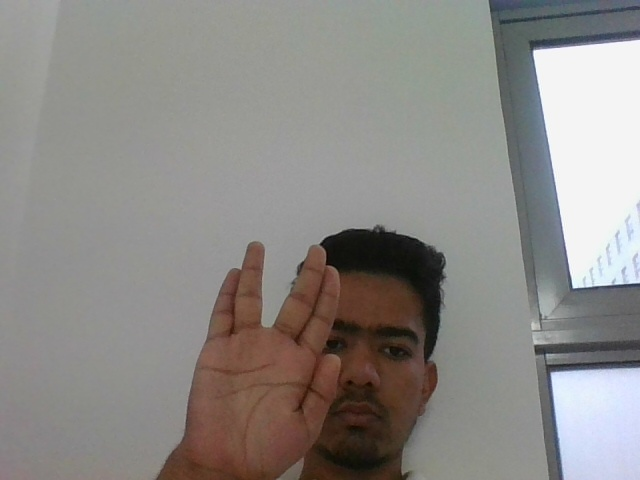livelong: (178, 232, 343, 477)
